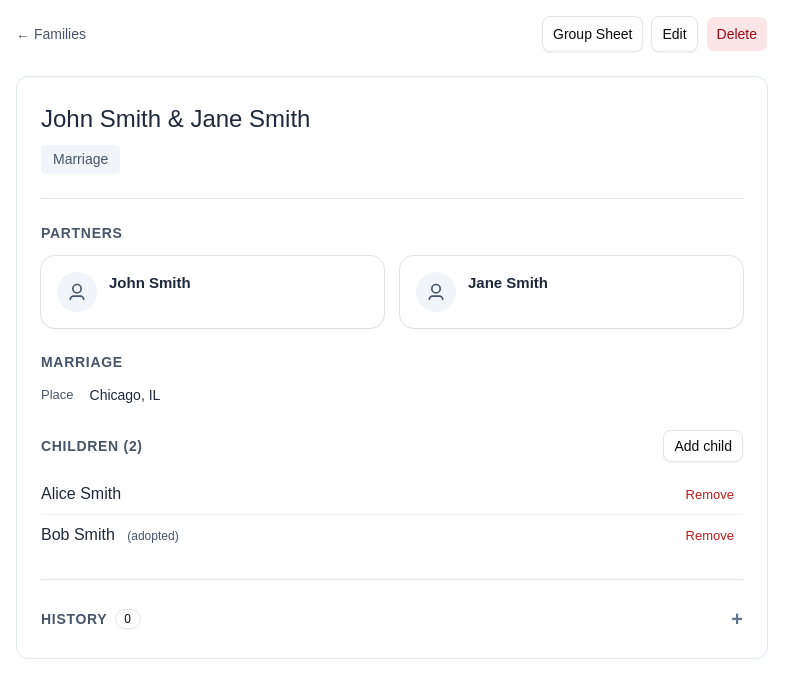
Test case: Family Detail Page: partners and children (#826) › offers no Keep as text for a refusal that is not an unreadable date
This screenshot has width=785, height=676.
Expected: the heading "John Smith & Jane Smith" is shown, [41,105,310,132]
Click the button "Edit" at (674, 34), box [651,16,698,52]
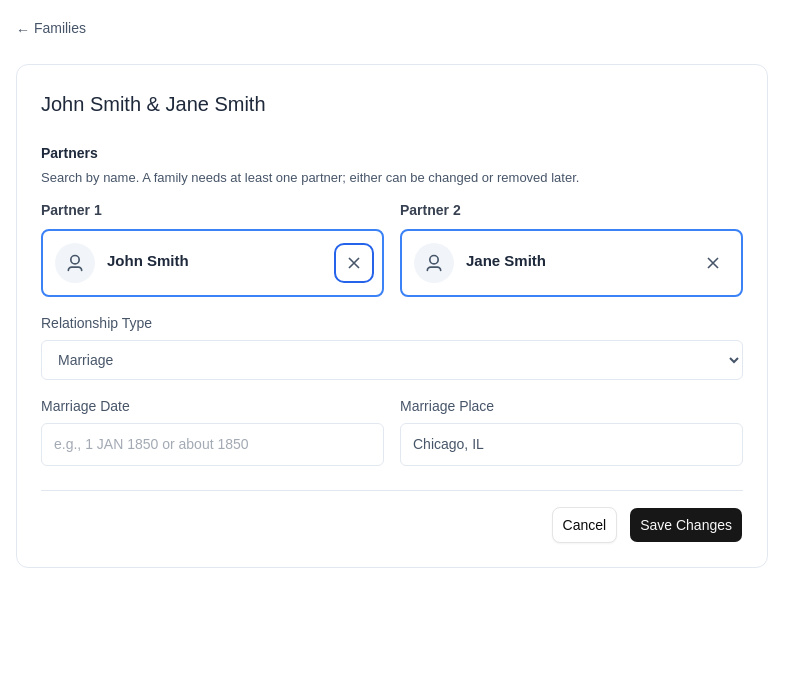
Click the button "Save Changes" at (686, 524), box [629,506,743,542]
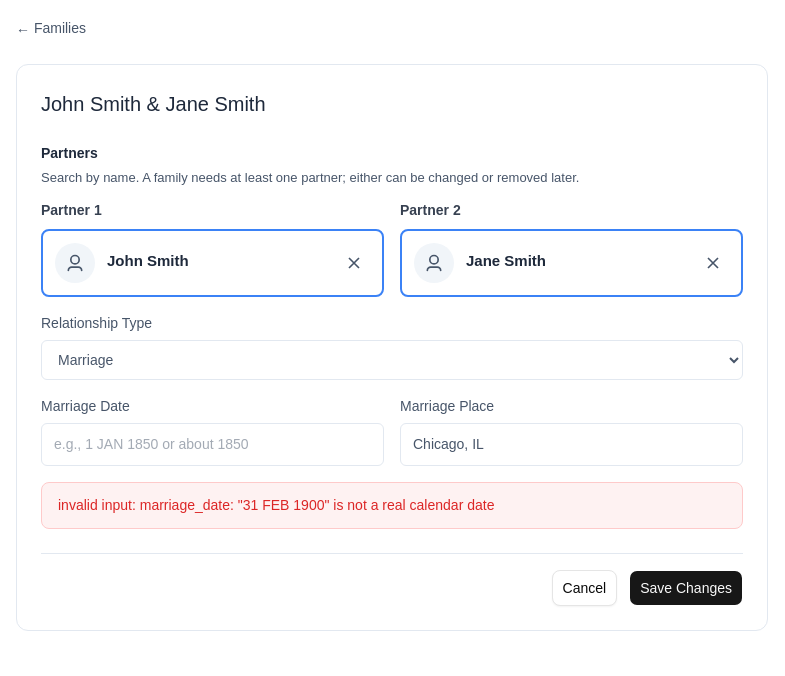
Expected: the message shows "is not a real calendar date", [58,496,494,512]
